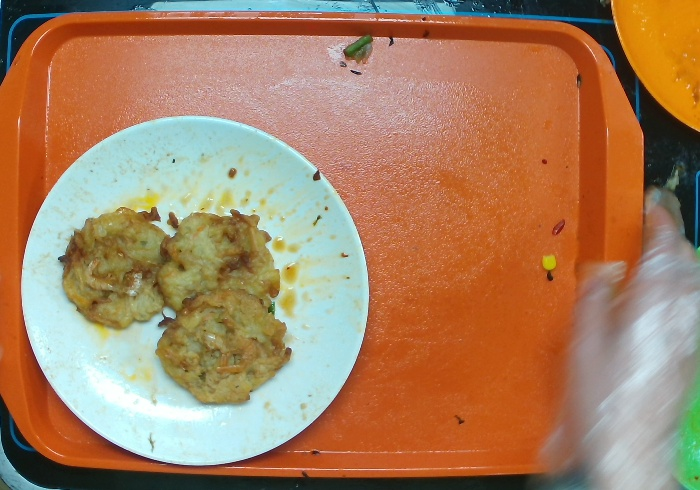HZYJPL-Bai_Se_Yuan_Pan: (15, 101, 385, 483)
